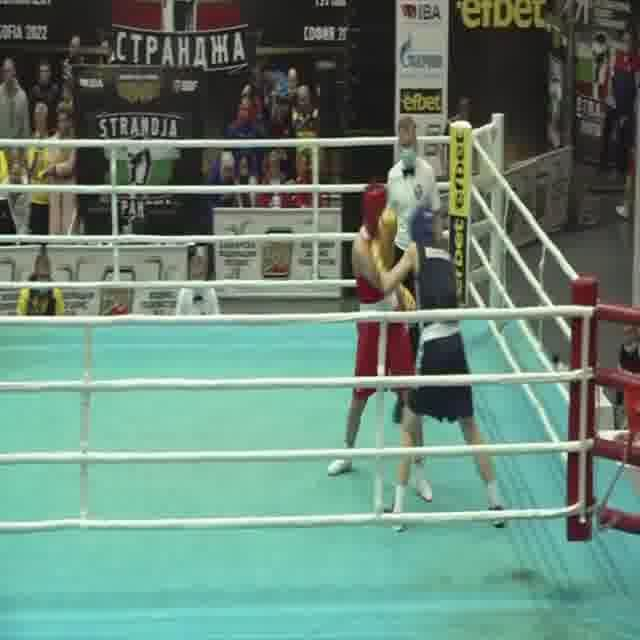blue-player: (368, 205, 510, 535)
red-player: (324, 183, 436, 506)
referee: (374, 113, 445, 434)
